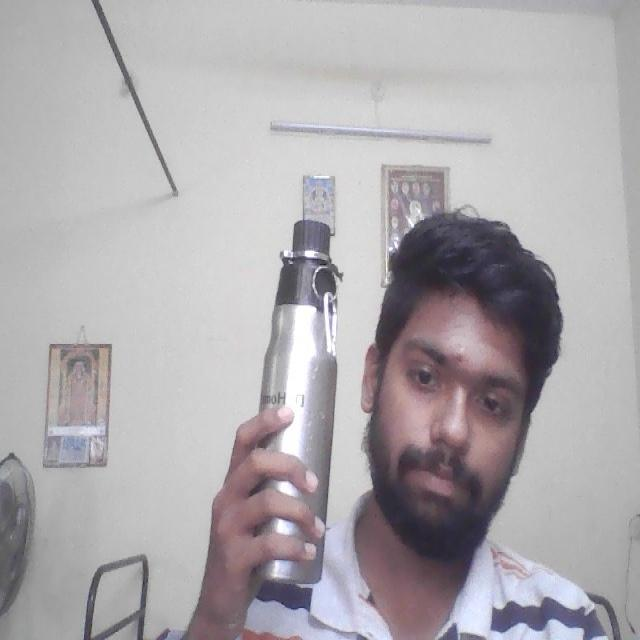Drinking: (246, 215, 345, 591)
